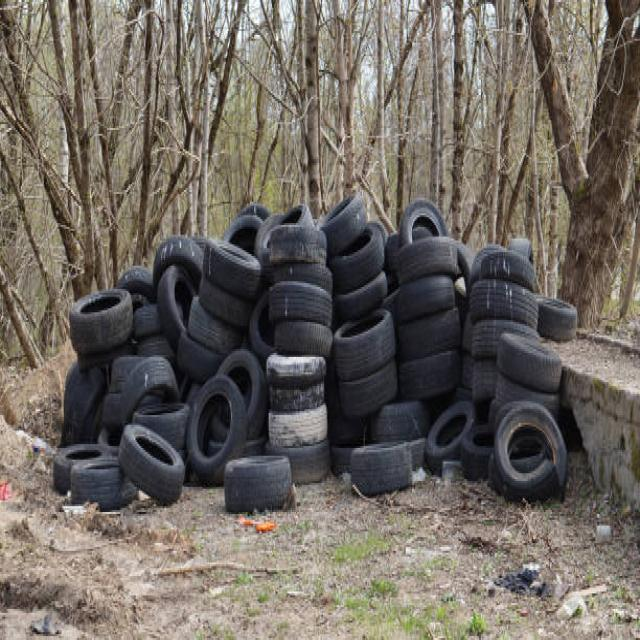tire: (491, 400, 567, 502), (186, 372, 247, 485), (117, 423, 184, 504), (216, 347, 266, 440), (68, 287, 133, 353), (496, 329, 562, 392), (224, 454, 292, 512), (120, 353, 178, 419), (61, 359, 106, 444), (70, 454, 136, 510), (424, 399, 474, 472), (317, 190, 367, 256), (468, 244, 536, 291), (153, 234, 205, 294), (52, 440, 107, 493), (398, 198, 446, 244), (536, 295, 578, 341)
